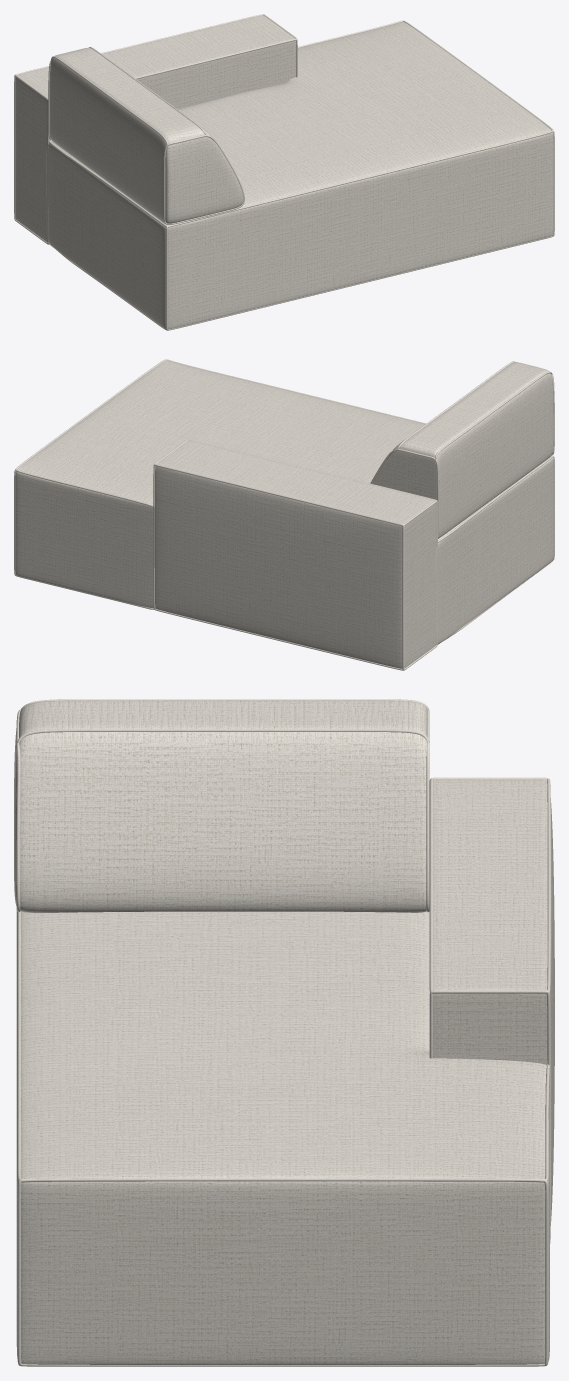
Rendered from longchair_left_130_alpine_ivory.glb.
The picture shows the model from 3 angles, top to bottom: view 1: azimuth 30°, elevation 25°; view 2: azimuth 150°, elevation 25°; view 3: azimuth 270°, elevation 25°; orthographic projection. The views are drawn at different scales.
Visible parts, largest first — view 1: Box095, Box077, Box088, Shape044, Shape048, Shape035; view 2: Box095, Box088, Box077, Shape048, Shape044, Shape035; view 3: Box095, Box077, Box088, Shape044, Shape035, Shape048.
Part boxes in pixels (x1,y1,x2,y2): Box095: (46, 21, 553, 329); Box077: (49, 47, 243, 223); Box088: (15, 15, 295, 242); Shape044: (58, 20, 554, 330); Shape048: (14, 14, 297, 244); Shape035: (48, 47, 244, 224); Box095: (15, 360, 554, 643); Box088: (154, 440, 436, 668); Box077: (372, 362, 553, 538); Shape048: (153, 439, 437, 670); Shape044: (14, 359, 553, 644); Shape035: (370, 361, 554, 538); Box095: (16, 910, 549, 1364); Box077: (14, 700, 427, 912); Box088: (433, 779, 554, 1225); Shape044: (17, 911, 549, 1366); Shape035: (16, 699, 429, 912); Shape048: (429, 777, 550, 1243).
Bounding box in the file's own units: 1.75 × 0.8369 × 1.19.
2 materials, 2 textured.
